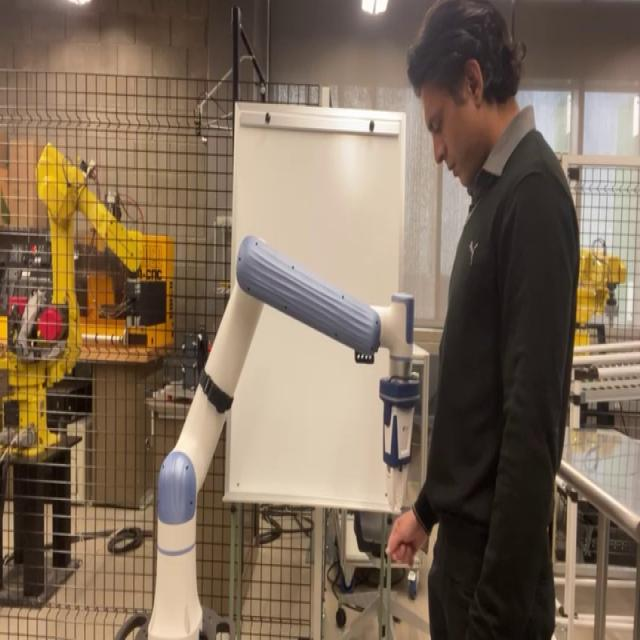robot: (115, 232, 427, 637)
